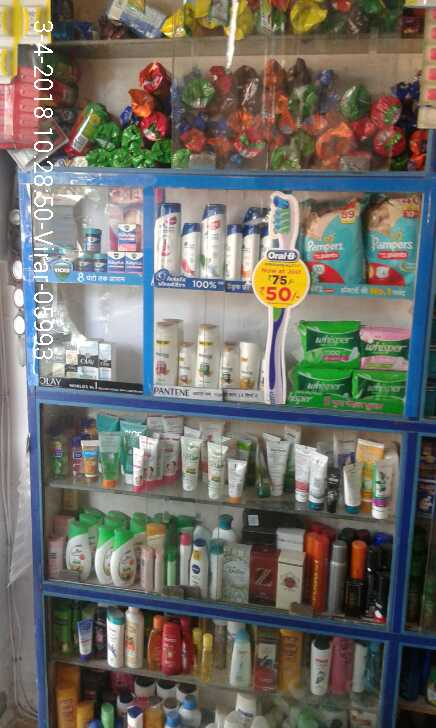vicks: (36, 219, 143, 276)
